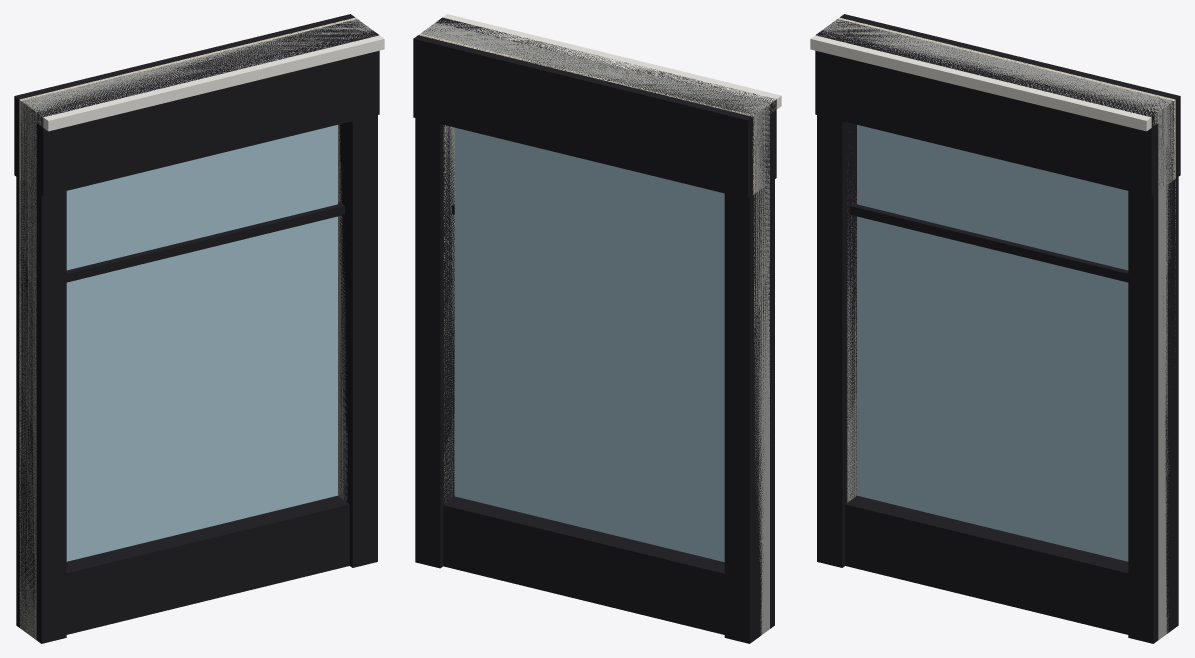
The model's file is Shopfront_Window.glb.
3 views of the same model, side by side, from view 1: azimuth 30°, elevation 25°; view 2: azimuth 150°, elevation 25°; view 3: azimuth 330°, elevation 25° (orthographic).
Parts seen in each view (by area): view 1: Shopfront_Window; view 2: Shopfront_Window; view 3: Shopfront_Window.
Part boxes in pixels (x1,y1,x2,y2): Shopfront_Window: (14,14,384,643); Shopfront_Window: (413,14,781,643); Shopfront_Window: (810,14,1180,643).
Bounding box in the file's own units: 2 × 3 × 0.35.
Materials: 1 (1 with a texture image).
